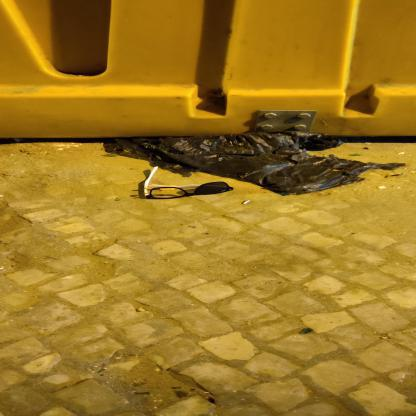diger: (143, 167, 236, 201)
plastik: (104, 137, 405, 196)
